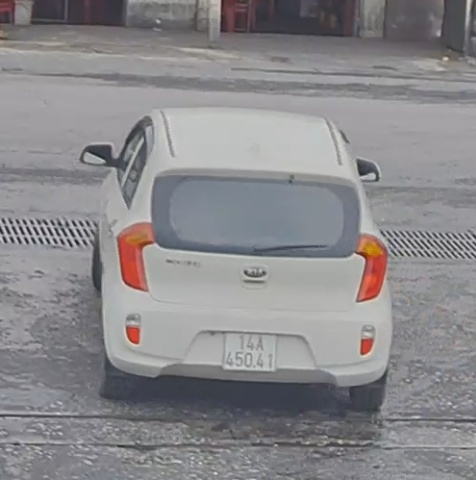vehicle plate: (217, 325, 282, 380)
